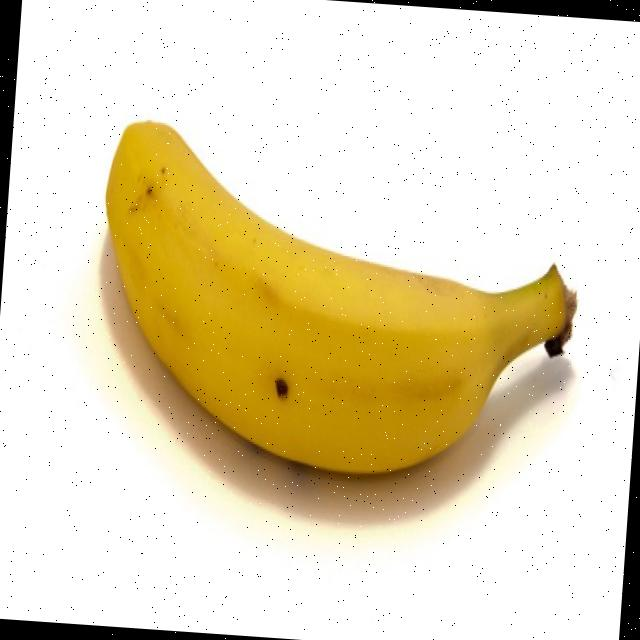Pisang: (86, 112, 588, 490)
